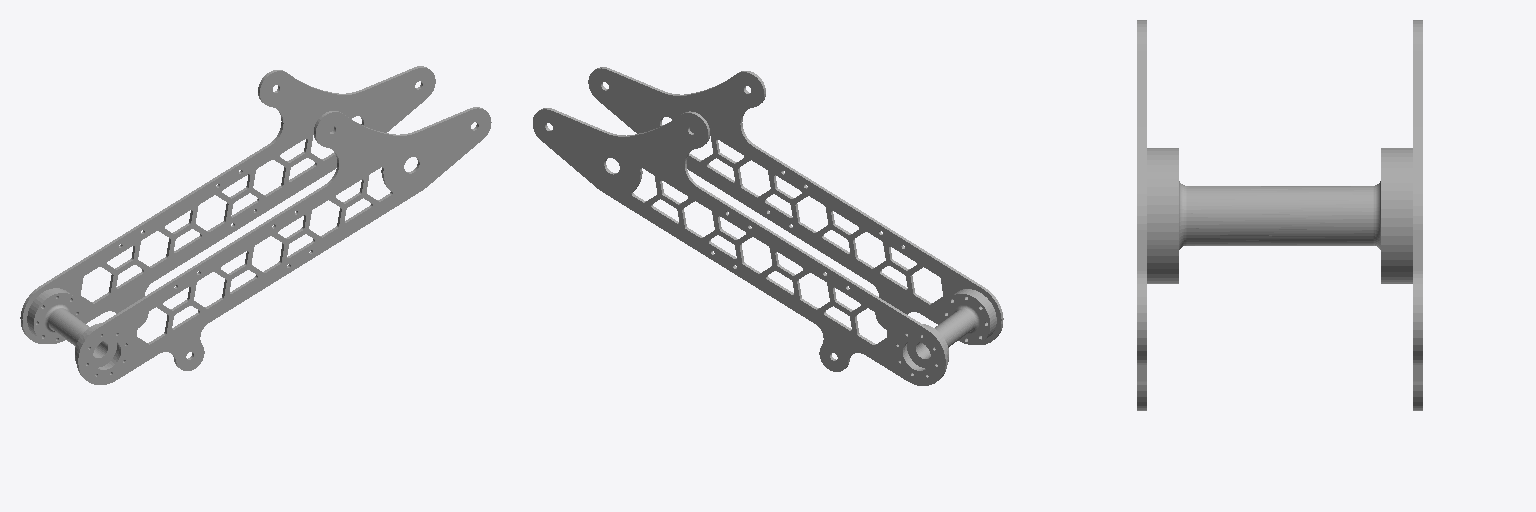
robot.urdf — rover:
<?xml version="1.0"?>
<robot name="rover">

  <material name="gray">
    <color rgba="0.7 0.7 0.7 5"/>
  </material>
  <material name="black">
    <color rgba="0.2 0.2 0.2 2"/>
  </material>
  <material name="chasis">
    <color rgba="0.4 0 0 2"/>
  </material>
  <material name="joint">
    <color rgba="0.4 0 0 2"/>
  </material>
  
 <link name="base_link">
    <visual>
      <geometry>
        <box size="0.0001 0.0001 0.0001"/>
      </geometry>
      <origin rpy="0 0 0" xyz="0 0 0"/>
      <material name="gray"/>
    </visual>
  </link>

  <link name="arm_base">
    <visual>
      <geometry>
        <mesh filename="package://model/meshes/arm1.STL" scale="0.001 0.001 0.001"/>
      </geometry>
      <origin rpy="1.5708 0 -0.43" xyz="-0.015 0.20 0"/>
      <material name="gray"/>
    </visual>
  </link>
  
  <link name="elbow">
    <visual>
      <geometry>
        <mesh filename="package://model/meshes/arm2.STL" scale="0.001 0.001 0.001"/>
      </geometry>
      <origin rpy="1.5708 0 0" xyz="-0.03 0.1 -0.04"/>
      <material name="gray"/>
    </visual>
  </link>

  <link name="forearm">
    <visual>
      <geometry>
        <mesh filename="package://model/meshes/arm3.STL" scale="0.001 0.001 0.001"/>
      </geometry>
      <origin rpy="1.5708 0 0" xyz="-0.03 0.08875 -0.03"/>
      <material name="gray"/>
    </visual>
  </link>

  <link name="wrist">
    <visual>
      <geometry>
        <mesh filename="package://model/meshes/UpDown.STL" scale="0.001 0.001 0.001"/>
      </geometry>
      <origin rpy="1.5708 0 0.06" xyz="-0.03 0.12875 -0.06"/>
      <material name="gray"/>
    </visual>
  </link>

  <link name="rotation">
    <visual>
      <geometry>
        <mesh filename="package://model/meshes/rotate.STL" scale="0.001 0.001 0.001"/>
      </geometry>
      <origin rpy="1.5708 0 0" xyz="-0.194 0.153 -0.001"/>
      <material name="gray"/>
    </visual>
  </link>

  <link name="finger">
    <visual>
      <geometry>
        <mesh filename="package://model/meshes/finger.STL" scale="0.001 0.001 0.001"/>
      </geometry>
      <origin rpy="1.5708 0 0" xyz="-0.02 0.03 -0.055"/>
      <material name="gray"/>
    </visual>
  </link>

   <joint name="base" type="revolute">
    <axis xyz="0 0 1"/>
    <limit effort="1000.0" lower="-3.1416" upper="3.1416" velocity=".1"/>
    <parent link="base_link"/>
    <child link="arm_base"/>
    <origin xyz="0 0 0"/>
  </joint>

  <joint name="base_to_elbow" type="revolute">
    <axis xyz="0 1 0"/>
    <limit effort="1000.0" lower="-3.1416" upper="3.1416" velocity=".1"/>
    <parent link="arm_base"/>
    <child link="elbow"/>
    <origin xyz="0 0 0.115"/>
  </joint>

  <joint name="elbow_to_arm" type="revolute">
    <axis xyz="0 1 0"/>
    <limit effort="1000.0" lower="-3.1416" upper="3.1416" velocity=".1"/>
    <parent link="elbow"/>
    <child link="forearm"/>
    <origin xyz="0.32 0 0.11"/>
  </joint>

  <joint name="arm_to_wrist" type="revolute">
    <axis xyz="0 1 0"/>
    <limit effort="1000.0" lower="-3.1416" upper="3.1416" velocity=".1"/>
    <parent link="forearm"/>
    <child link="wrist"/>
    <origin xyz="0.285 0 0.1"/>
  </joint>

  <joint name="wrist_to_rotate" type="revolute">
    <axis xyz="0 0 1"/>
    <limit effort="1000.0" lower="-3.1416" upper="3.1416" velocity=".1"/>
    <parent link="wrist"/>
    <child link="rotation"/>
    <origin xyz="0 0 0.055"/>
  </joint>

  <joint name="rotate_to_finger" type="prismatic">
    <axis xyz="1 0 0"/>
    <limit effort="1000.0" lower="0" upper="0.08" velocity=".1"/>
    <parent link="rotation"/>
    <child link="finger"/>
    <origin xyz="-0.06 0 0.095"/>
  </joint>

</robot>

--- Facts derived from the render (not from the file) ---
Views: 3 orthographic renders of the robot side by side, from view 1: azimuth 30°, elevation 25°; view 2: azimuth 150°, elevation 25°; view 3: azimuth 270°, elevation 25°.
Robot: rover — 7 links, 6 joints (5 revolute, 1 prismatic); root link base_link; default pose: all joints at 0.
Visible links, largest first — view 1: elbow; view 2: elbow; view 3: elbow.
Link boxes in pixels (x1,y1,x2,y2): elbow: (20, 66, 491, 384); elbow: (533, 67, 1003, 385); elbow: (1137, 20, 1422, 410).
Size in the robot's own frame: 0.4332 by 0.105 by 0.2992 metres.
1 mesh visuals loaded from 6 distinct referenced files (1 binary STL); not drawn: 5 (reference not matched to a file when rendering).